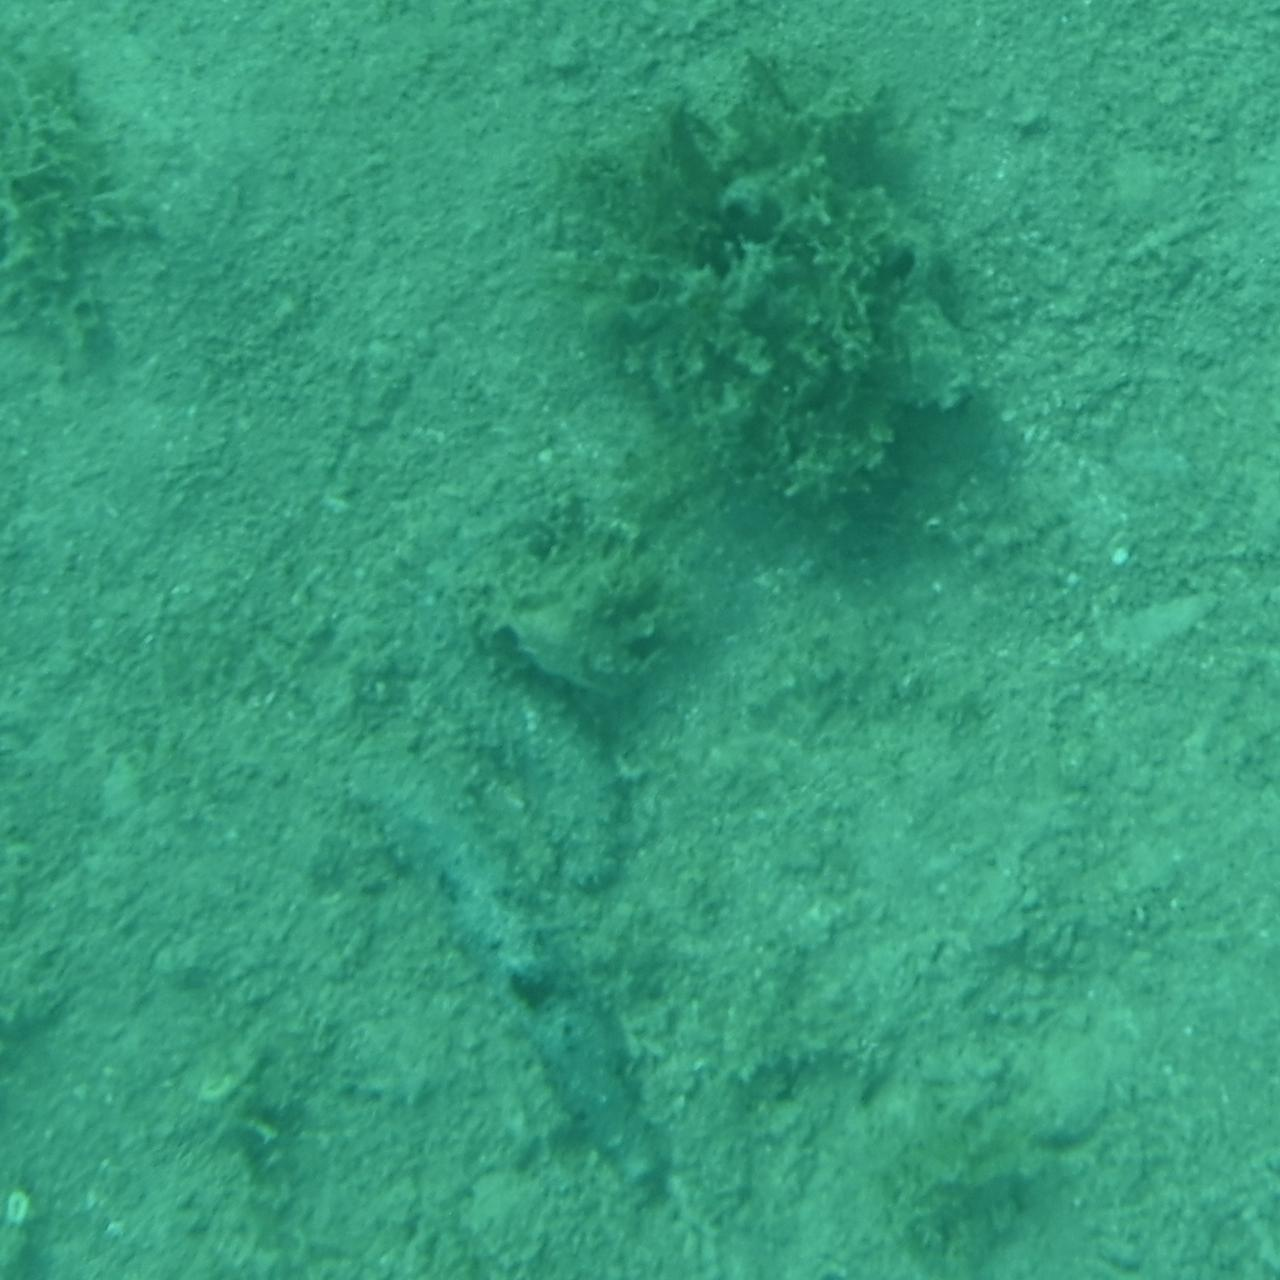Holothuria tubulosa: (324, 775, 710, 1207), (435, 592, 599, 805)
Phaeophyceae -cfr Cystoseira-: (558, 62, 968, 517)
